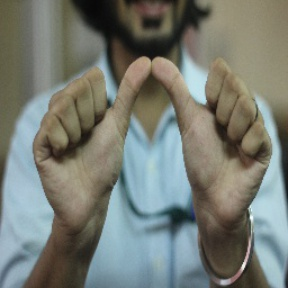A: (56, 49, 258, 171)
